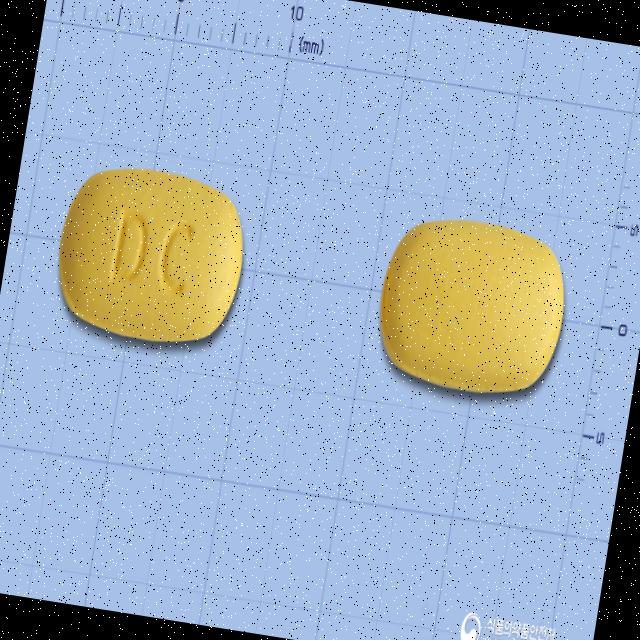Clabicks: (364, 199, 582, 413), (44, 154, 260, 362)
